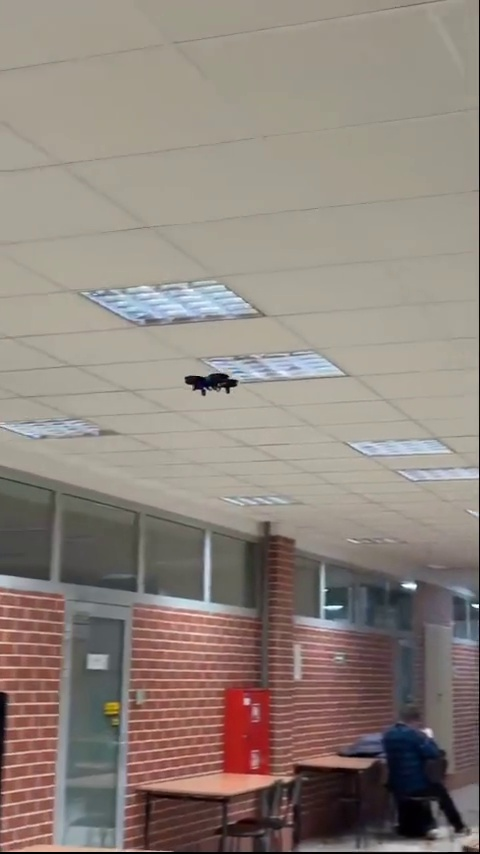drone: (183, 368, 239, 400)
no vest: (386, 694, 453, 805)
